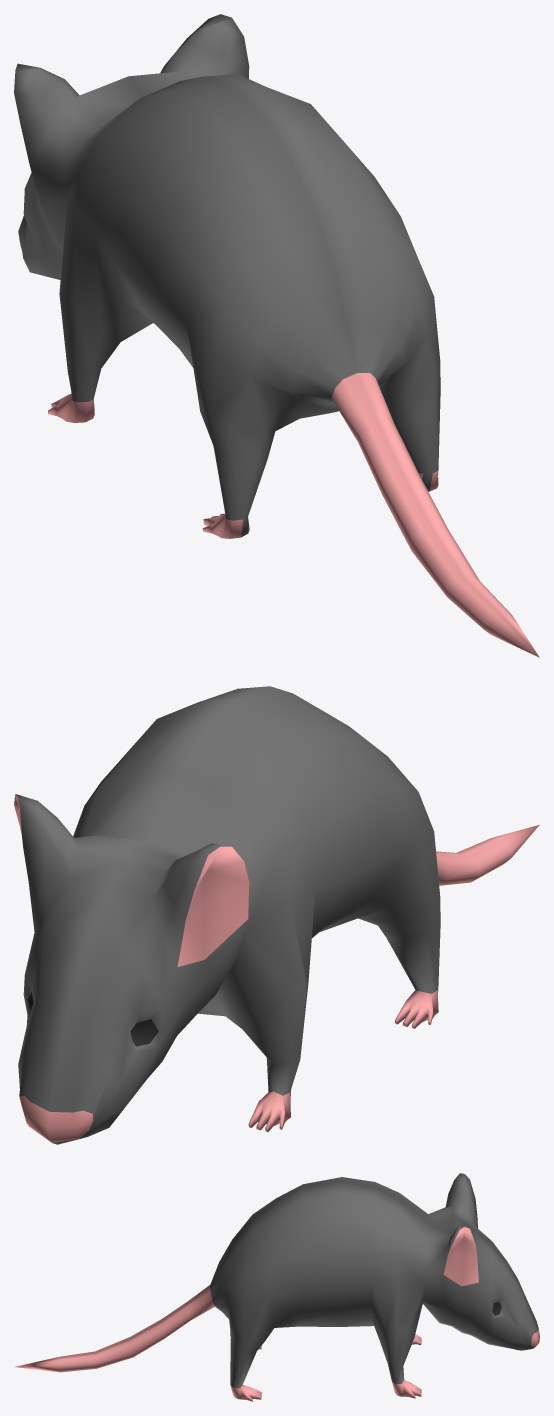
Rendered from rat.glb.
3 renders of one model, top to bottom at view 1: azimuth 30°, elevation 25°; view 2: azimuth 150°, elevation 25°; view 3: azimuth 270°, elevation 25°, orthographic. The views are drawn at different scales.
Parts seen in each view (by area): view 1: Rat2; view 2: Rat2; view 3: Rat2.
Boxes of the visible parts, left/top/right/bottom form: Rat2: left=14, top=14, right=539, bottom=657; Rat2: left=14, top=686, right=539, bottom=1144; Rat2: left=15, top=1173, right=539, bottom=1401.
Bounding box in the file's own units: 0.7185 × 0.9968 × 2.49.
1 material, 1 textured.
